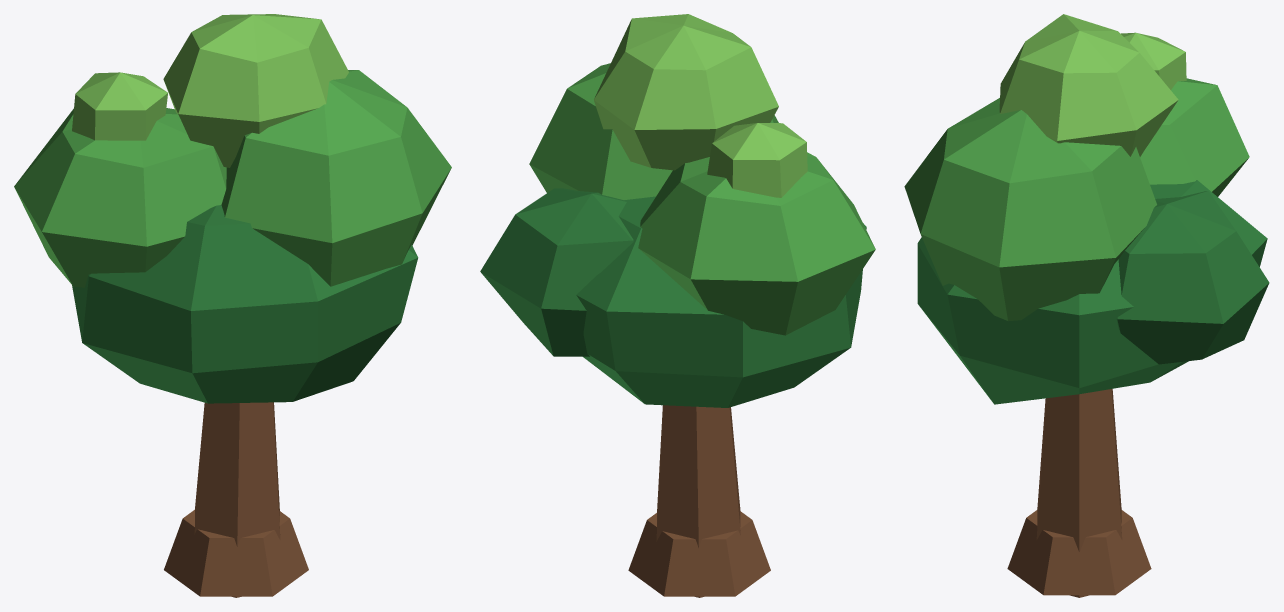
Rendered from wood_tree_round.fbx.
3 views of the same model, side by side, from view 1: azimuth 30°, elevation 25°; view 2: azimuth 150°, elevation 25°; view 3: azimuth 270°, elevation 25° (orthographic).
Visible parts, largest first — view 1: wood_tree_round__leaf, wood_tree_round__leaf_dark, wood_tree_round__leaf_light, wood_tree_round__bark; view 2: wood_tree_round__leaf_dark, wood_tree_round__leaf, wood_tree_round__leaf_light, wood_tree_round__bark; view 3: wood_tree_round__leaf, wood_tree_round__leaf_dark, wood_tree_round__bark, wood_tree_round__leaf_light.
Boxes of the visible parts, <box> form: wood_tree_round__leaf: <box>14,70,451,287</box>; wood_tree_round__leaf_dark: <box>72,205,418,403</box>; wood_tree_round__leaf_light: <box>72,14,348,167</box>; wood_tree_round__bark: <box>164,402,308,597</box>; wood_tree_round__leaf_dark: <box>480,188,866,407</box>; wood_tree_round__leaf: <box>529,63,875,335</box>; wood_tree_round__leaf_light: <box>594,14,807,197</box>; wood_tree_round__bark: <box>628,405,770,597</box>; wood_tree_round__leaf: <box>904,78,1249,321</box>; wood_tree_round__leaf_dark: <box>917,180,1269,404</box>; wood_tree_round__bark: <box>1007,389,1151,597</box>; wood_tree_round__leaf_light: <box>999,14,1186,156</box>.
Bounding box in the file's own units: 662 × 973 × 583.
